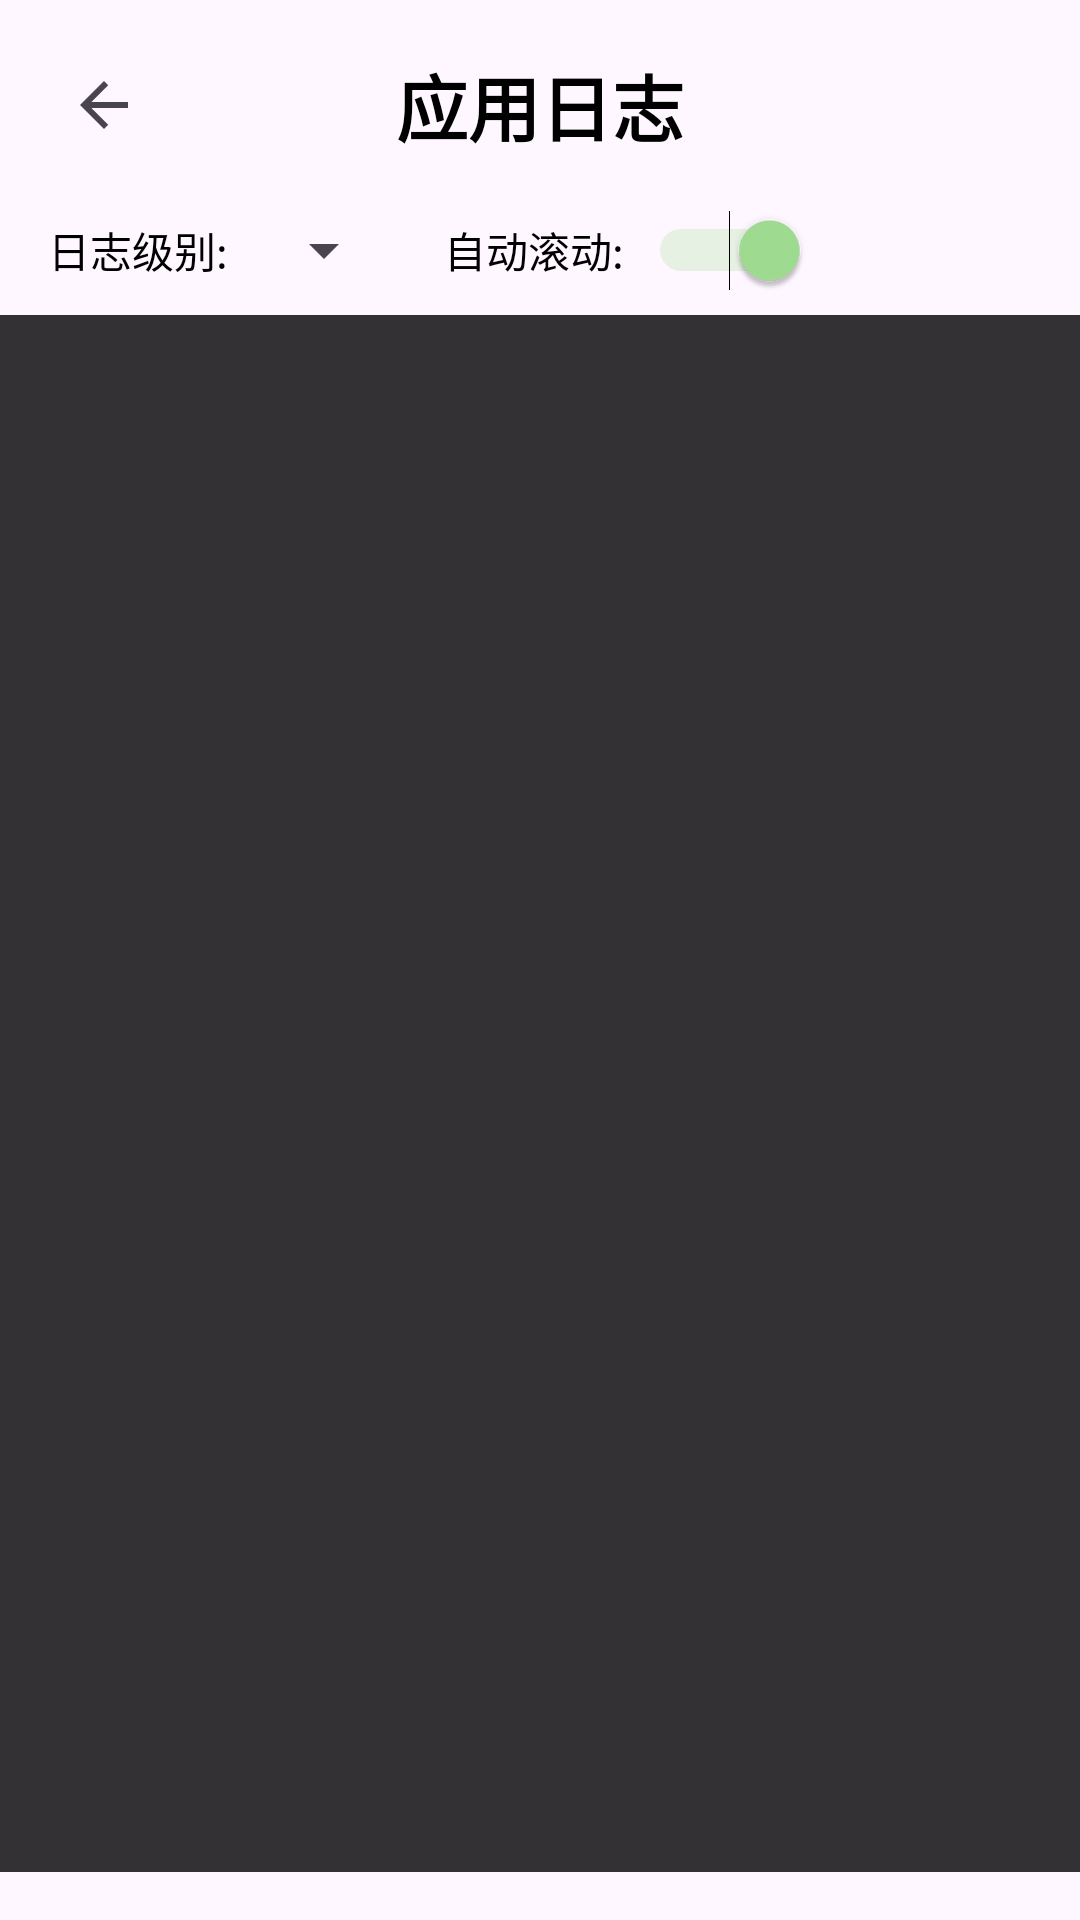

Icon click points for this 1080*1920 phone screenshot, format (x=x, y=y):
返回: (x=104, y=105)
